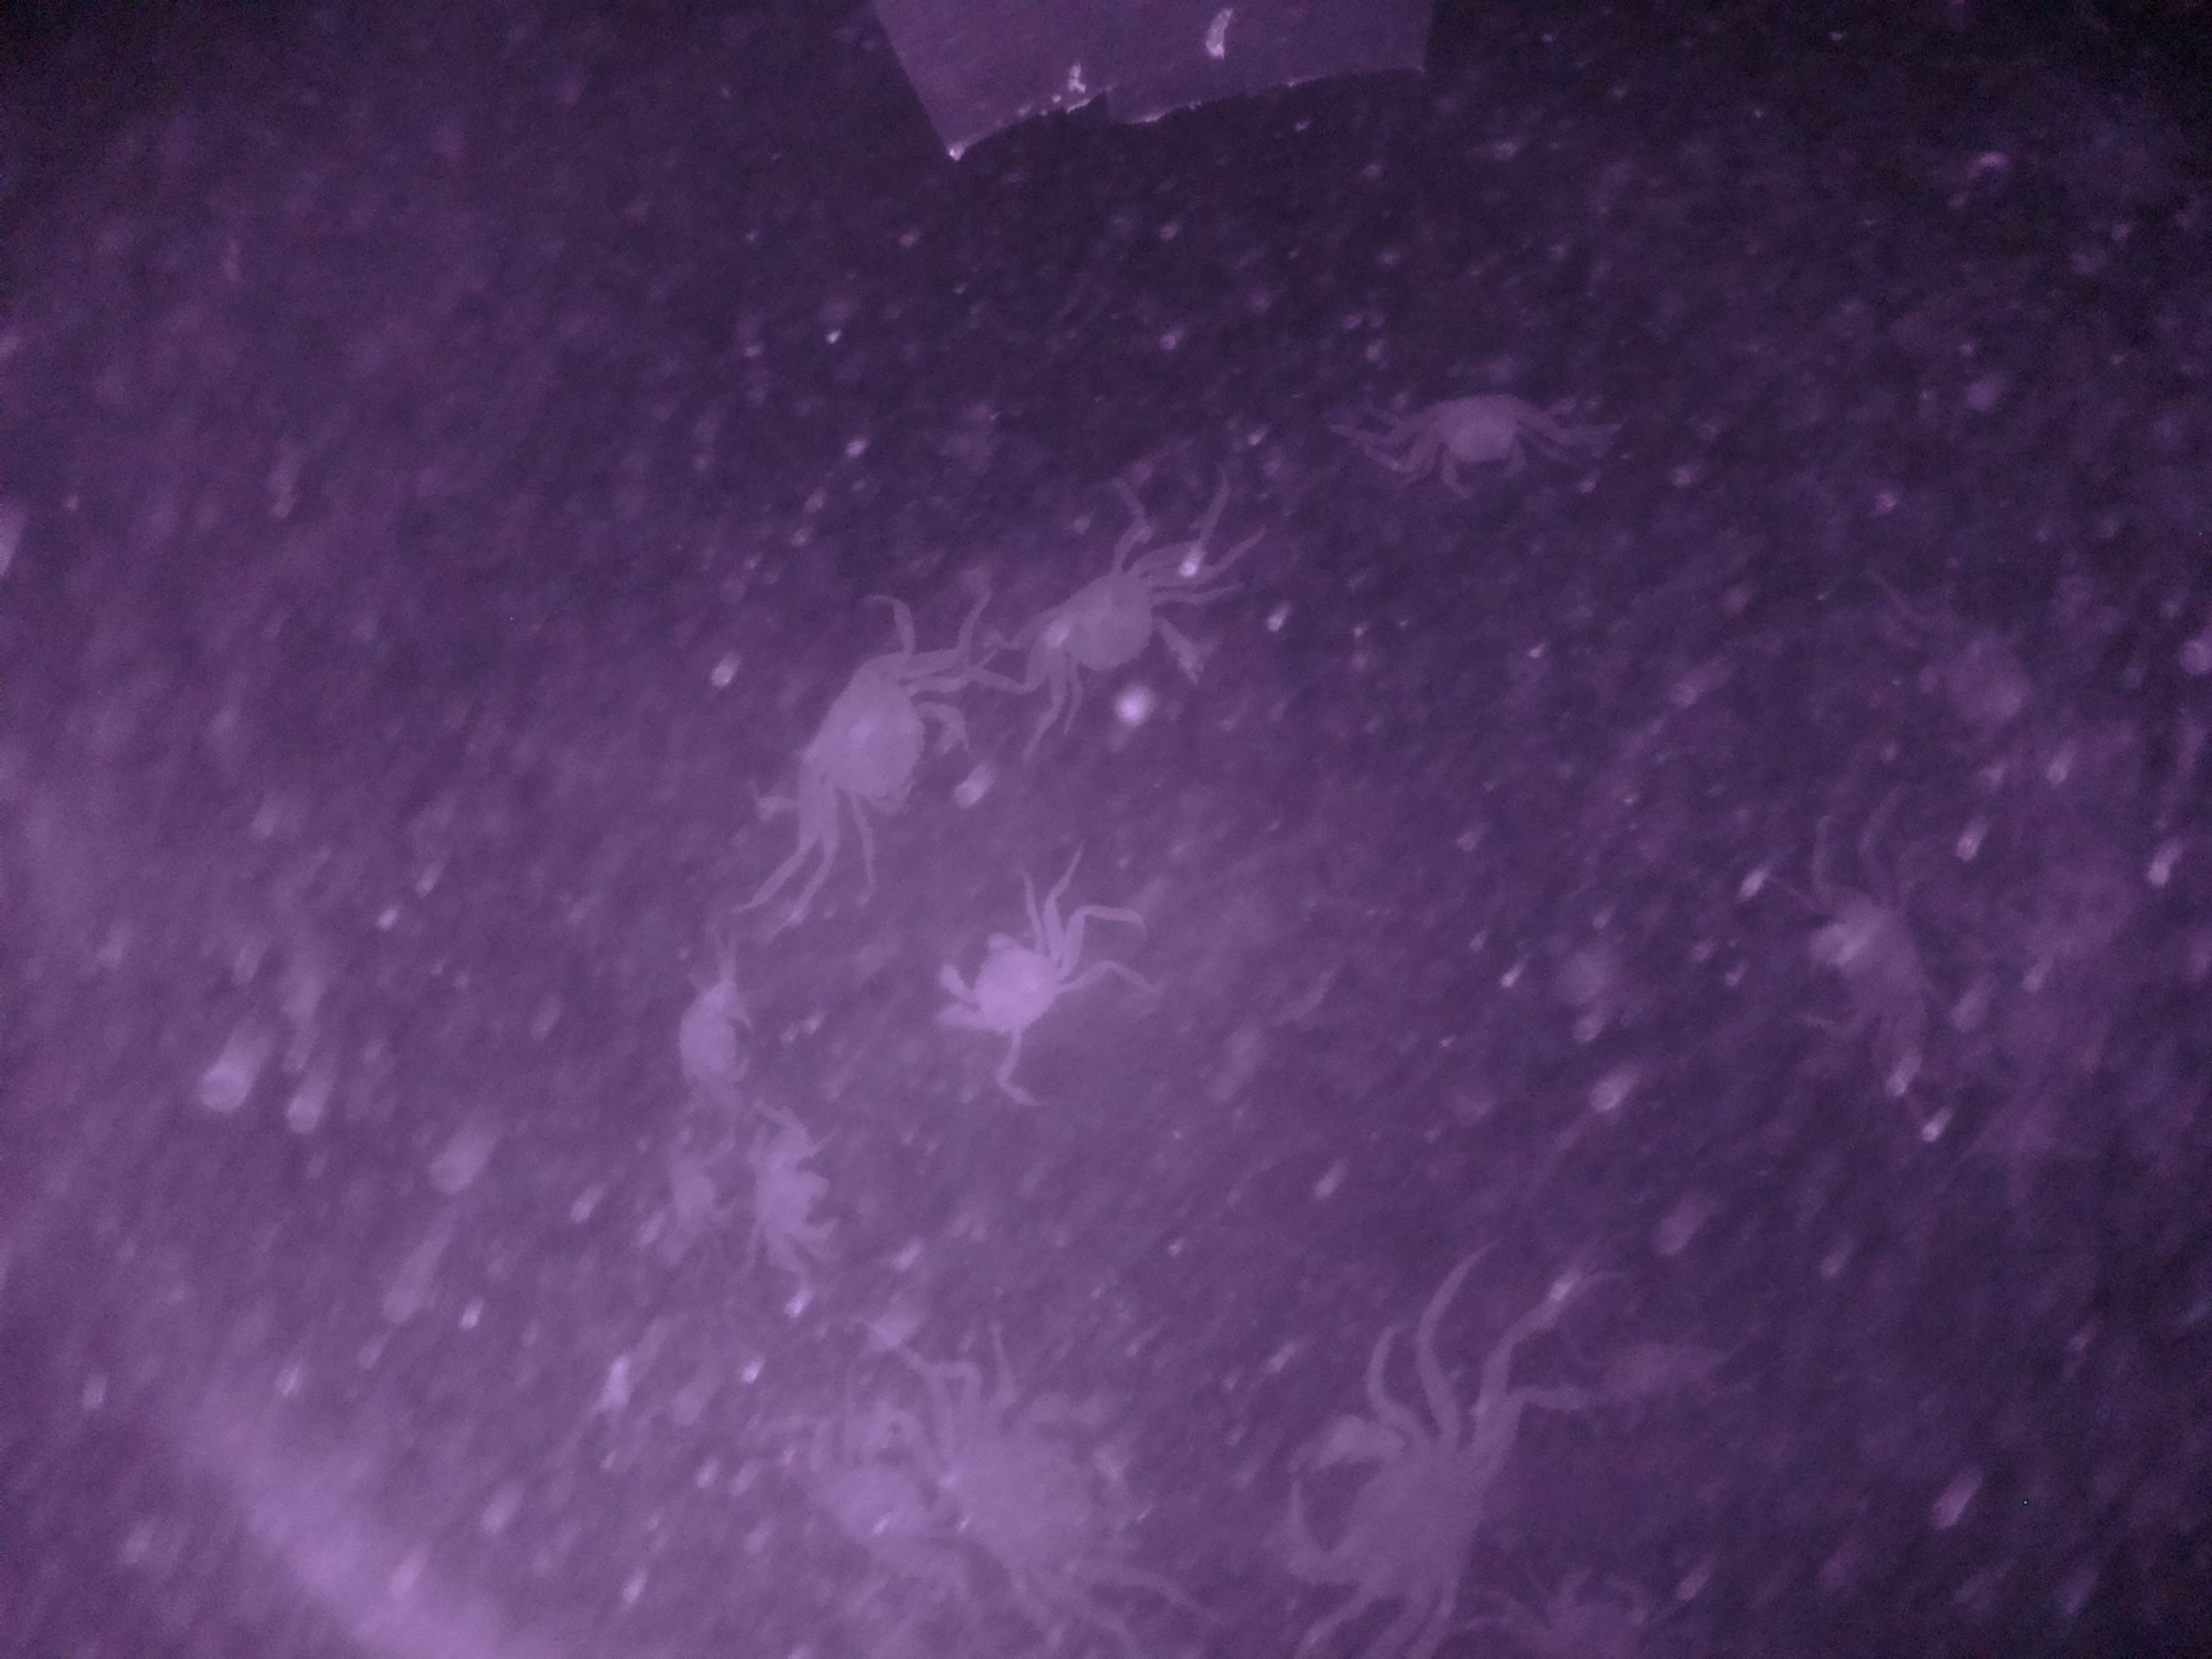Crab: (984, 514, 1226, 753), (787, 617, 970, 856), (1376, 368, 1576, 509), (923, 911, 1090, 1072), (728, 1121, 843, 1277)
